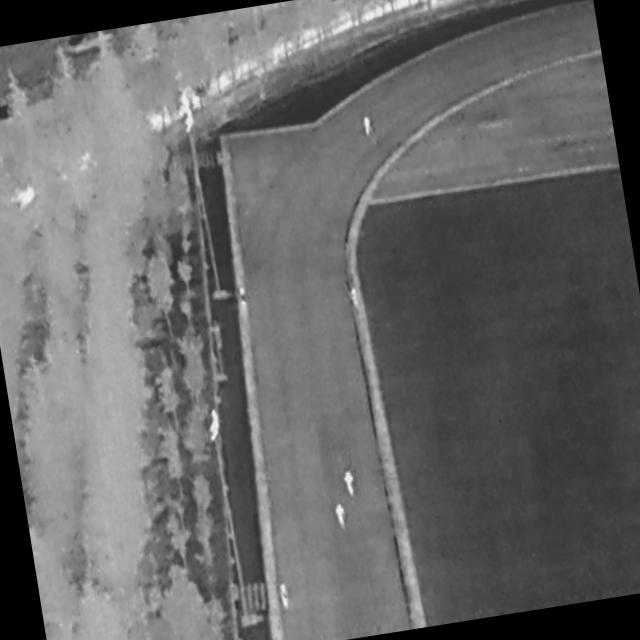person: (334, 501, 349, 531), (344, 469, 358, 499), (280, 582, 292, 610), (362, 114, 373, 139), (351, 287, 362, 310), (239, 284, 250, 306)
